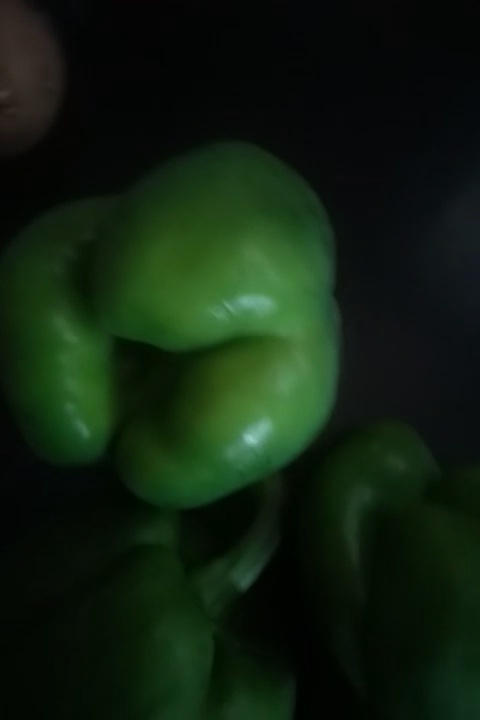capsicum: (14, 160, 336, 502), (8, 476, 314, 720), (303, 438, 480, 720)
potato: (1, 6, 85, 174)
